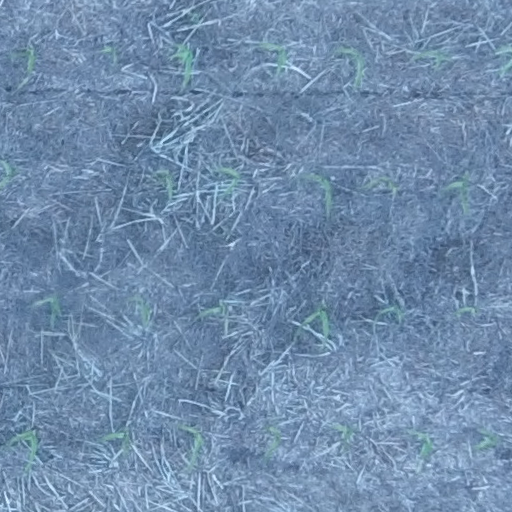planta: (177, 425, 204, 469), (10, 430, 39, 470), (337, 46, 365, 86), (172, 43, 193, 85), (446, 174, 469, 212), (259, 42, 287, 73), (304, 304, 329, 338), (306, 175, 331, 208), (101, 429, 131, 453), (217, 167, 241, 193), (413, 50, 448, 67), (133, 296, 151, 325), (412, 432, 432, 457), (366, 177, 398, 192), (20, 46, 37, 73), (265, 426, 280, 456), (39, 296, 60, 317), (474, 430, 496, 449), (200, 302, 225, 316), (160, 170, 173, 196), (333, 425, 352, 442), (381, 306, 403, 319), (454, 305, 477, 316), (97, 45, 115, 53)
